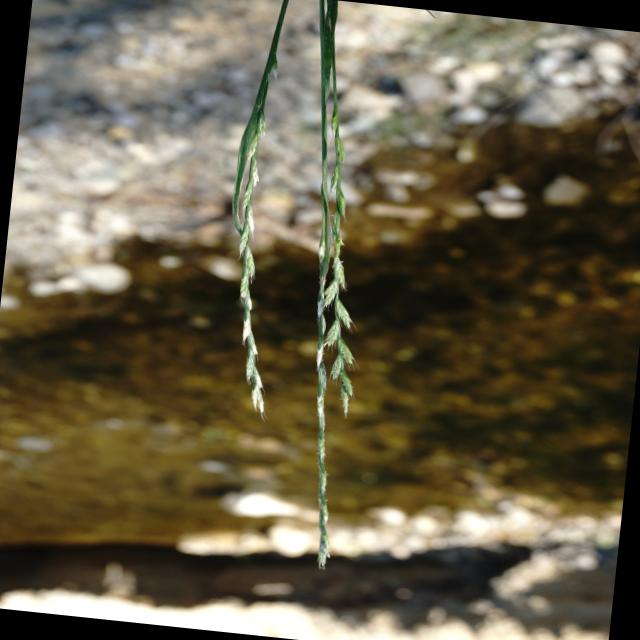Lolium: (278, 23, 402, 555), (205, 0, 315, 415)
